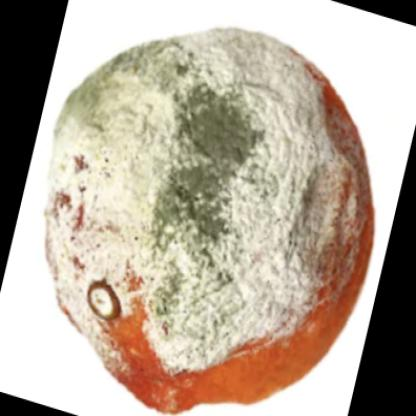rotten: (45, 29, 375, 416)
